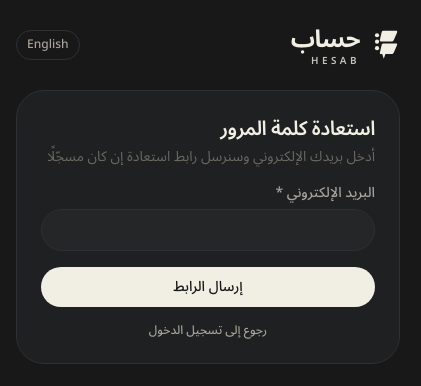
Test: ForgotPasswordForm › renders in English after switching locale
The width and height of the screenshot is (421, 386).
What coordinates should you click on to do the following:
click the button "English"
I would click on:
 (48, 45)
Its box is left=16, top=30, right=80, bottom=60.
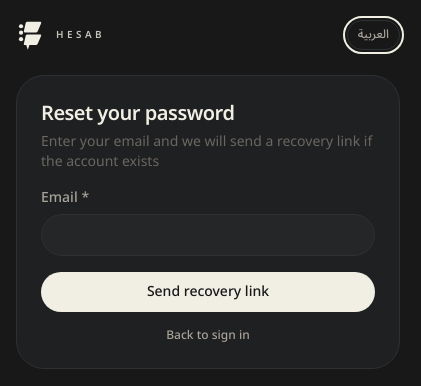
Expected: the heading "Reset your password" is shown, left=41, top=92, right=234, bottom=134
